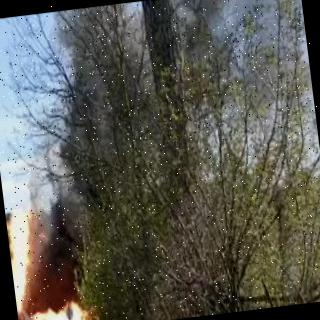smoke: (36, 198, 90, 310)
